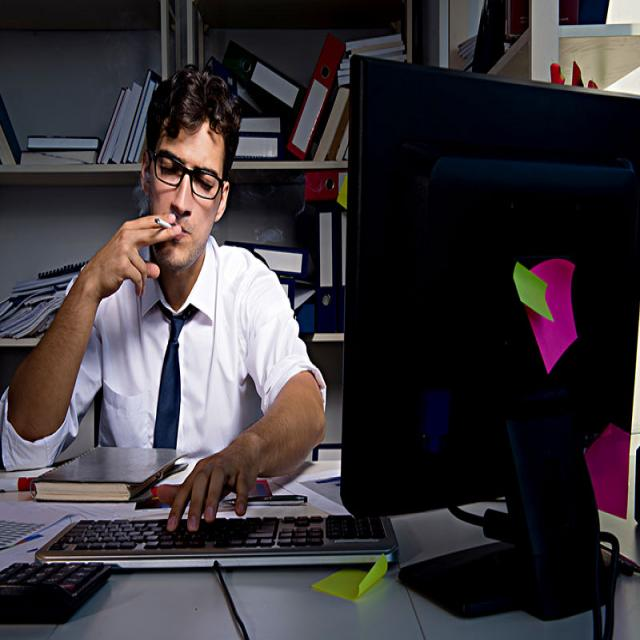smoking: (154, 217, 175, 232)
